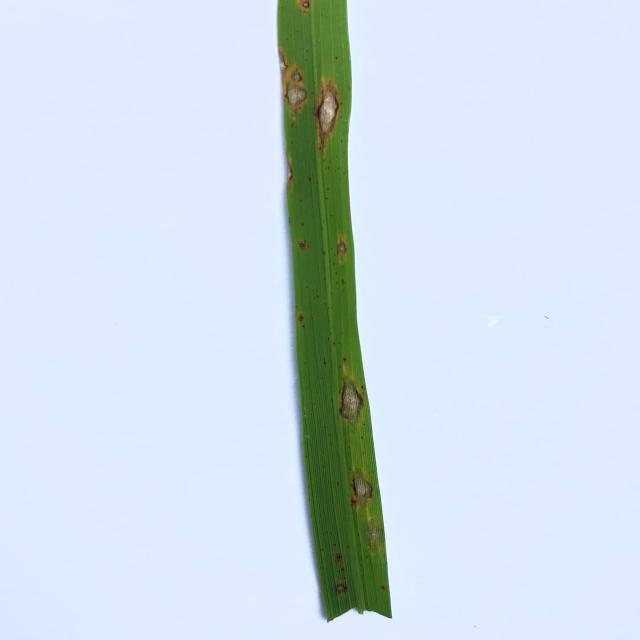leaf blast: (312, 76, 340, 155), (335, 359, 363, 420), (350, 466, 375, 509), (282, 78, 310, 116), (277, 48, 290, 79), (334, 236, 348, 260), (288, 64, 304, 84), (286, 161, 294, 192), (296, 0, 315, 10), (334, 582, 347, 594), (333, 550, 341, 561)
